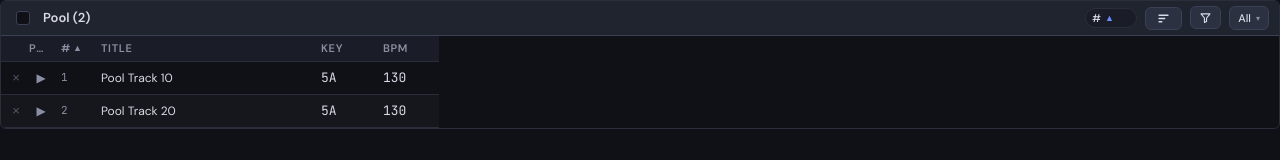
Test: SetPoolTable tiered sort bar › adds a tier via +Sort and applies it to row order
Click the button named "add sort tier". click: [1164, 18]
box: [1145, 6, 1182, 30]
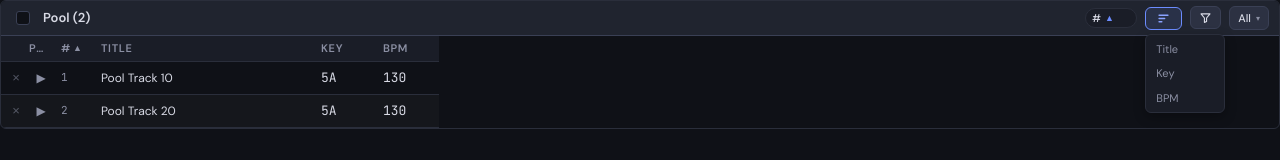
Press the mouse on the menu item "Title" at [1167, 48], box [1156, 42, 1178, 56]
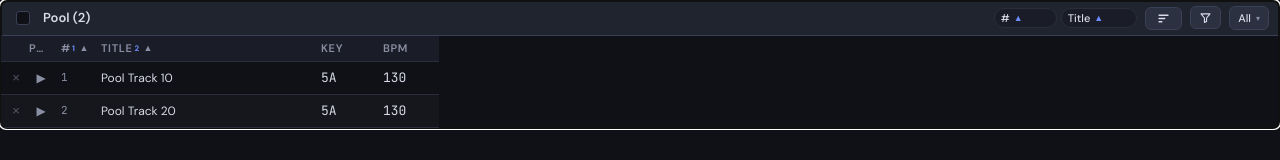
expect the number of elements with class "sort-tier-pill" is 2: met, box [994, 8, 1057, 28]; [1061, 8, 1137, 28]
